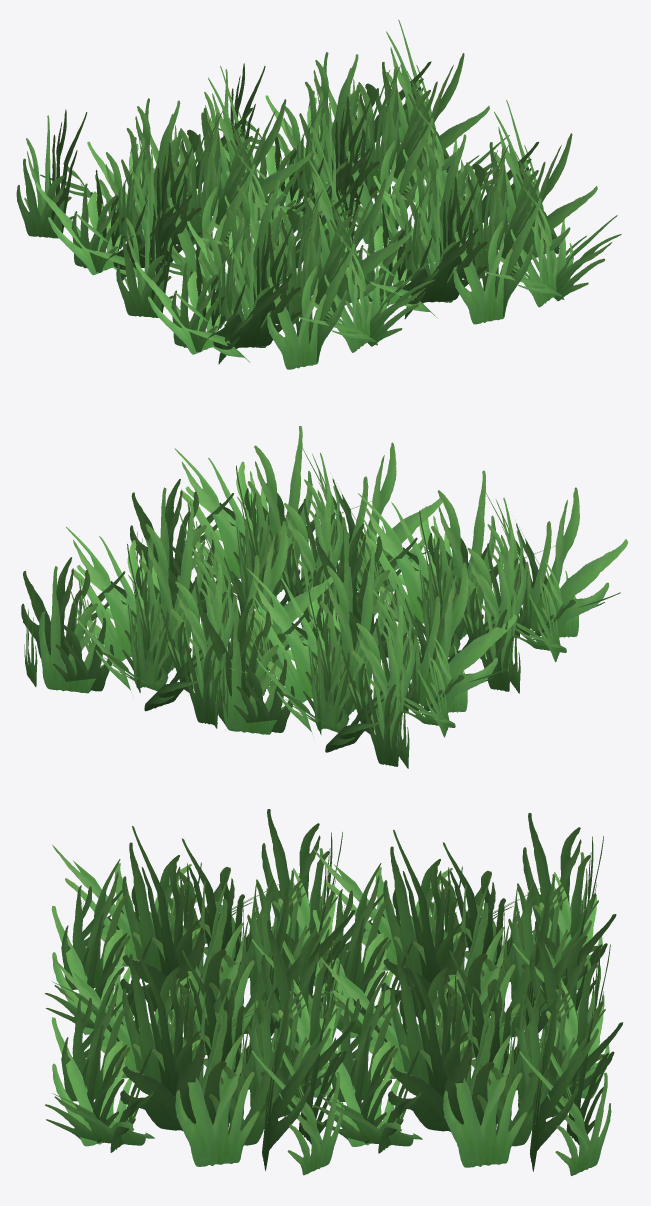
File: P_plant_1306.fbx
3 renders of one model, top to bottom at view 1: azimuth 30°, elevation 25°; view 2: azimuth 150°, elevation 25°; view 3: azimuth 270°, elevation 25°, orthographic. The views are drawn at different scales.
Parts seen in each view (by area): view 1: P_plant_1306_b, P_plant_1306_c, P_plant_1306_a, P_plant_1306_d; view 2: P_plant_1306_a, P_plant_1306_d, P_plant_1306_b, P_plant_1306_c; view 3: P_plant_1306_c, P_plant_1306_d, P_plant_1306_b, P_plant_1306_a.
Part boxes in pixels (x1,y1,x2,y2): P_plant_1306_b: [116, 145, 435, 369]; P_plant_1306_c: [302, 100, 621, 324]; P_plant_1306_a: [16, 66, 334, 286]; P_plant_1306_d: [195, 19, 509, 243]; P_plant_1306_a: [202, 545, 516, 768]; P_plant_1306_d: [21, 504, 333, 726]; P_plant_1306_b: [313, 470, 628, 693]; P_plant_1306_c: [130, 426, 442, 639]; P_plant_1306_c: [45, 920, 355, 1175]; P_plant_1306_d: [312, 921, 623, 1175]; P_plant_1306_b: [45, 809, 355, 1054]; P_plant_1306_a: [312, 813, 616, 1058].
Size of the model in its own units: 2.05 by 0.6637 by 2.02.
